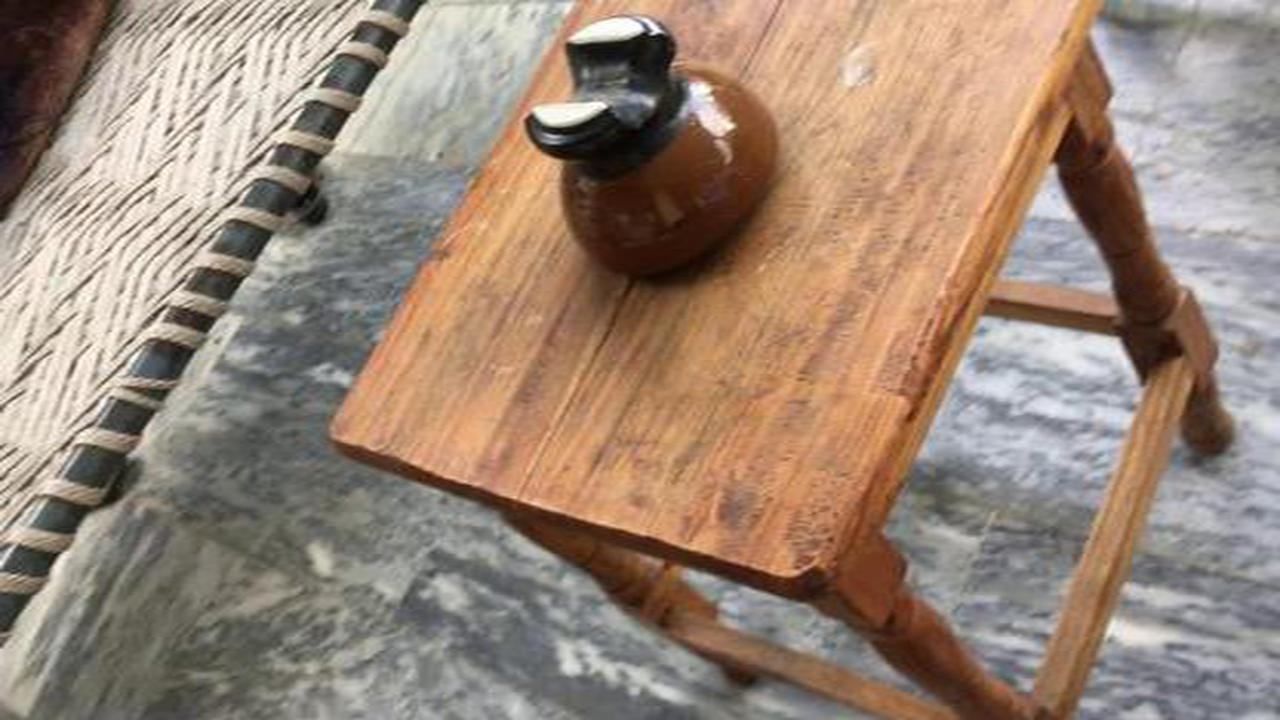insulator_pin: (505, 13, 791, 296)
